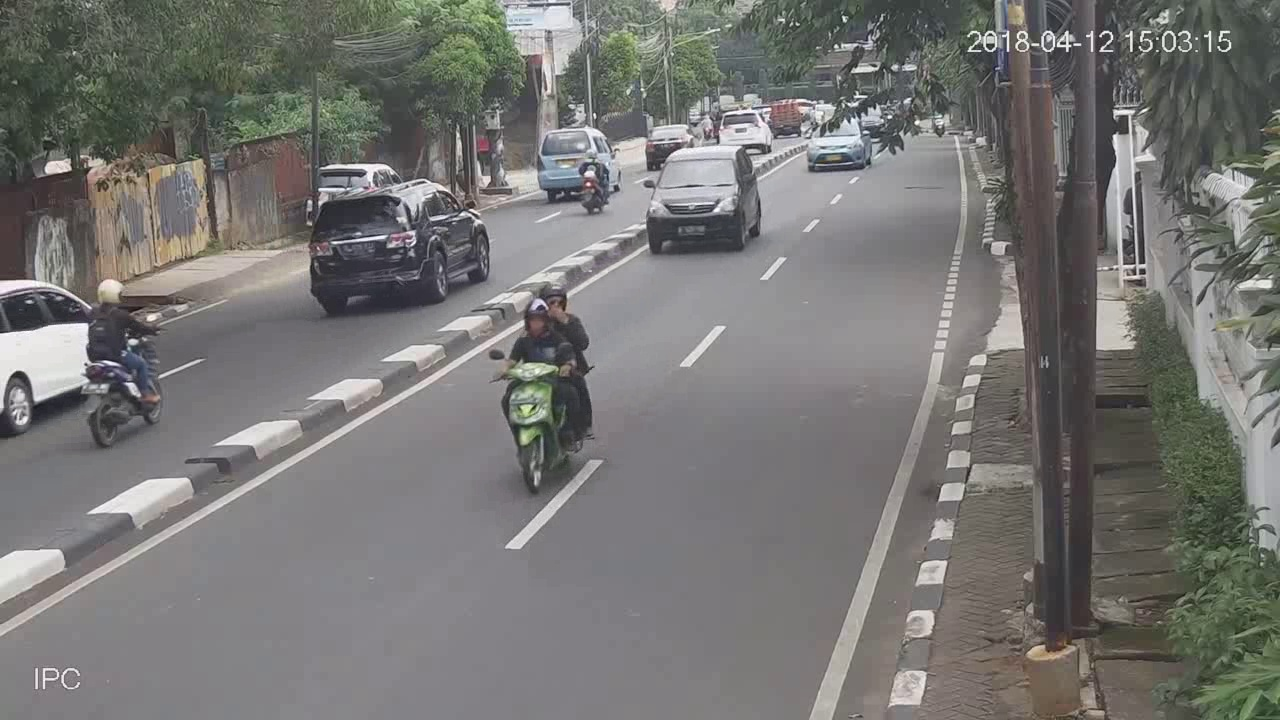car: (303, 188, 492, 316), (647, 146, 764, 253), (537, 127, 622, 199), (804, 122, 870, 170), (644, 119, 697, 169), (720, 109, 771, 149)
motorcycle: (490, 285, 598, 492), (75, 276, 164, 453), (577, 144, 614, 219)
